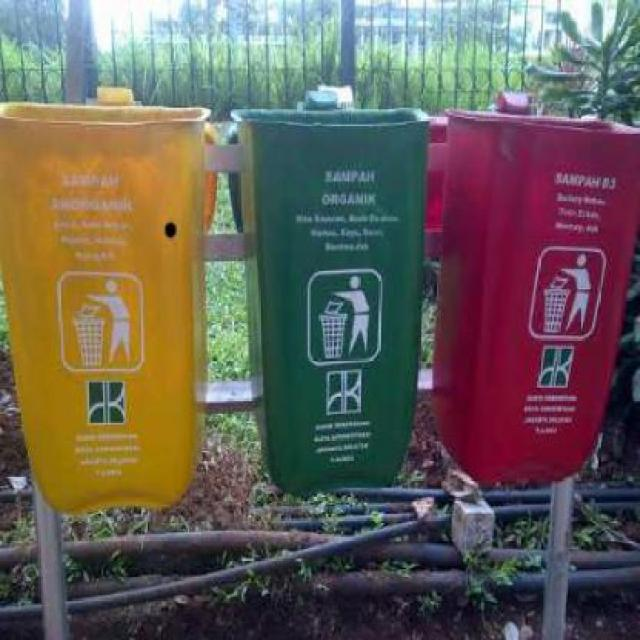garbage container: (3, 87, 225, 530), (225, 81, 441, 524), (441, 95, 640, 504)
